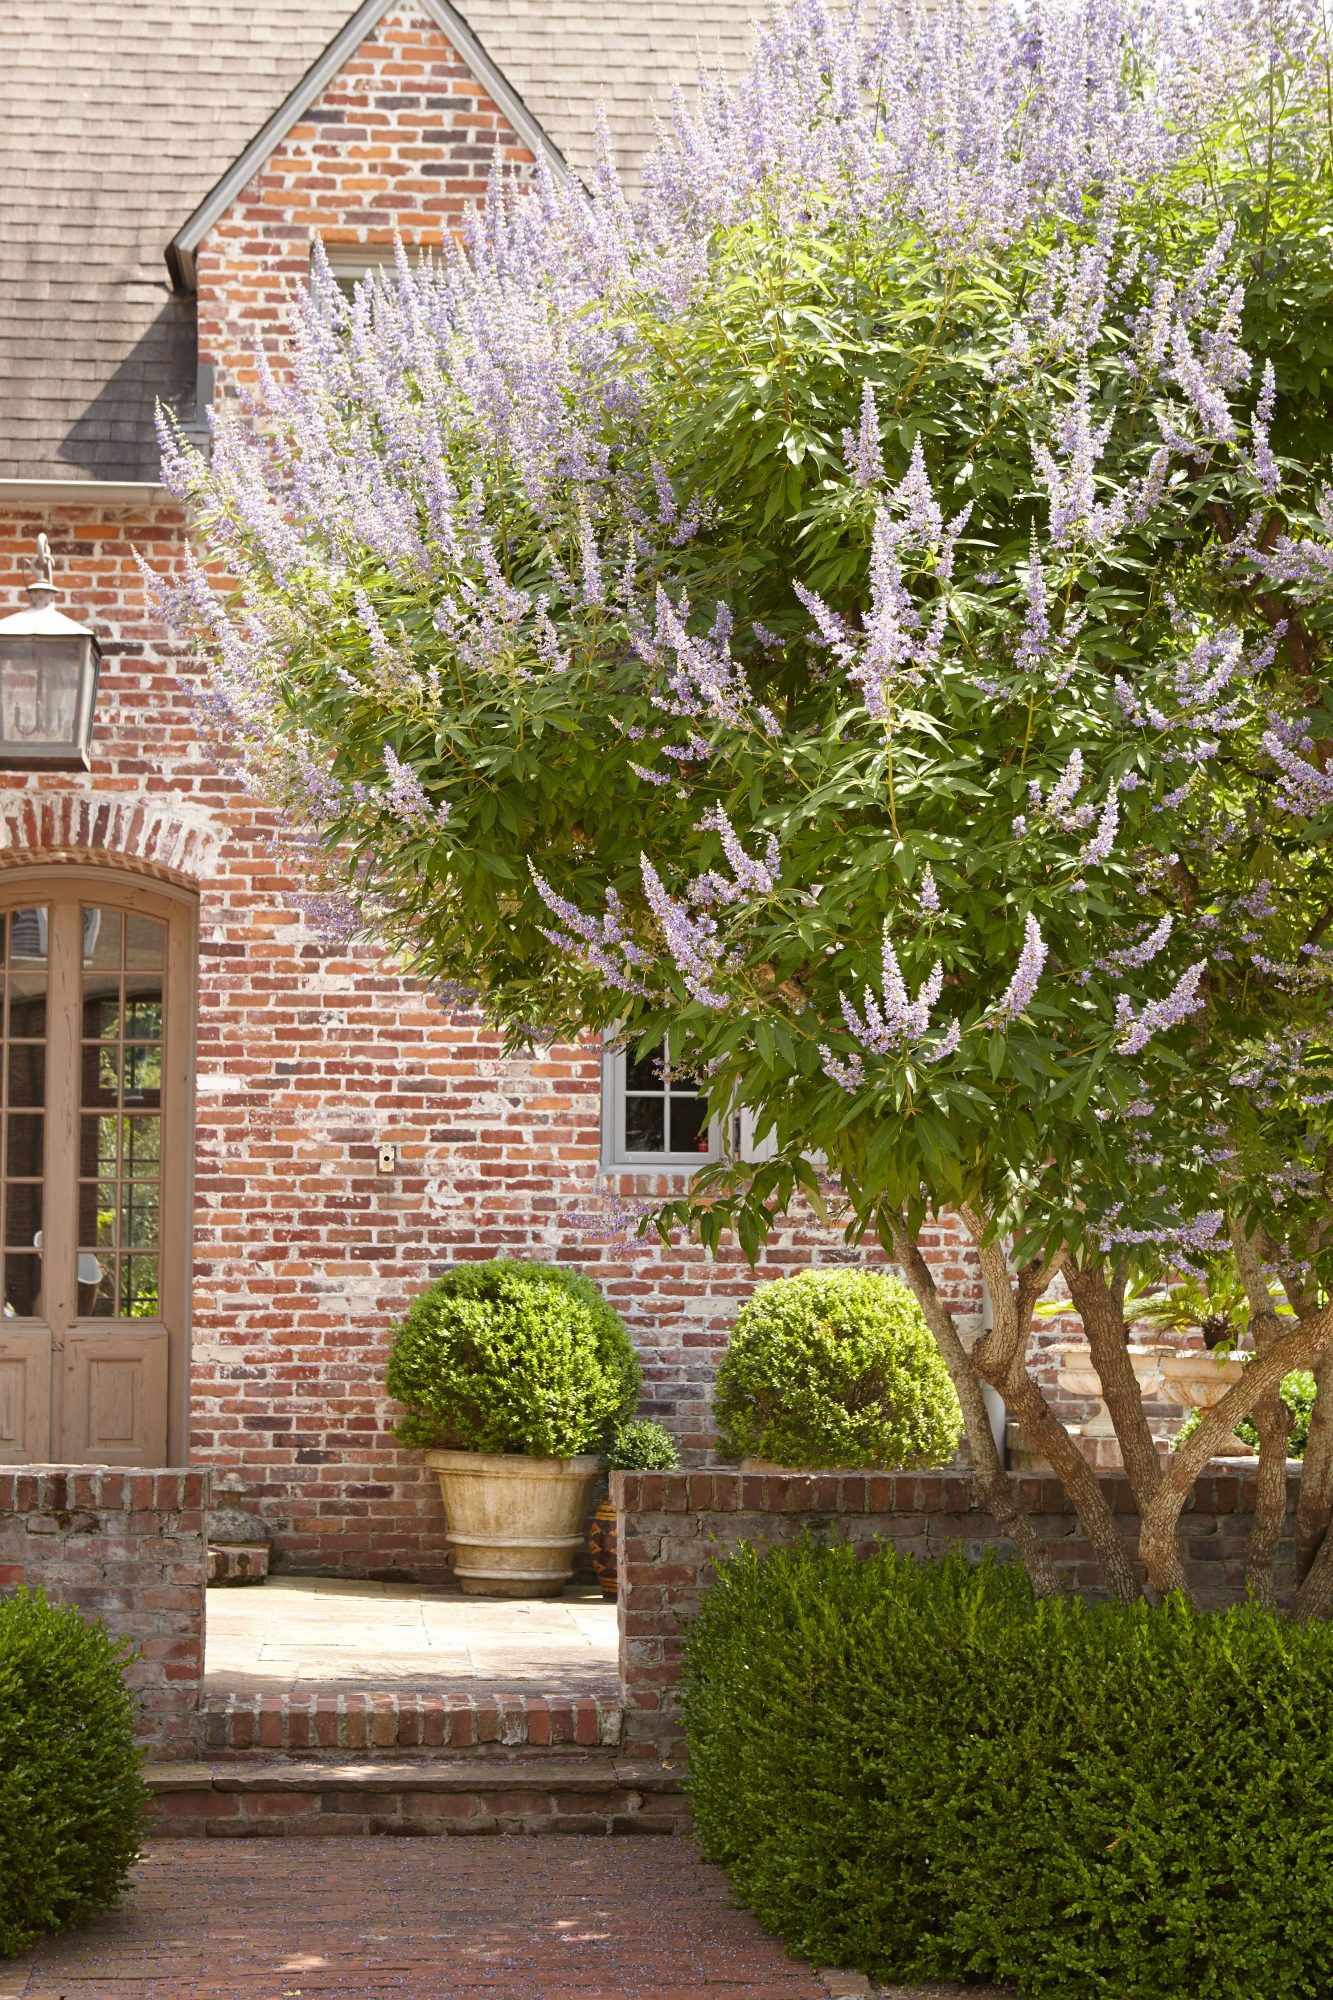bush: (661, 1541, 1315, 1981)
tree: (182, 7, 1333, 1640)
